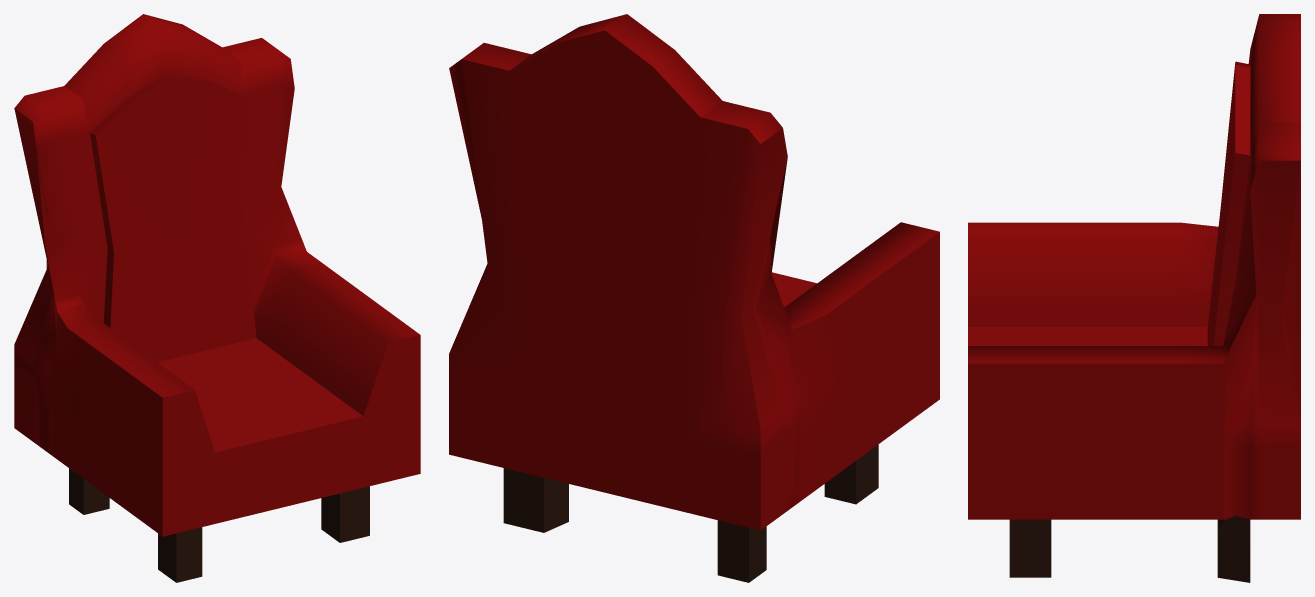
Rendered from gothic armchair.fbx.
3 views of the same model, side by side, from view 1: azimuth 30°, elevation 25°; view 2: azimuth 150°, elevation 25°; view 3: azimuth 270°, elevation 25° (orthographic). The views are drawn at different scales.
Visible parts, largest first — view 1: pCube1; view 2: pCube1; view 3: pCube1.
Boxes of the visible parts, x1,y1,x2,y2 form: pCube1: (14,14,420,582); pCube1: (449,14,939,582); pCube1: (968,14,1300,582).
Size of the model in its own units: 1.51 by 2.5 by 1.49.
